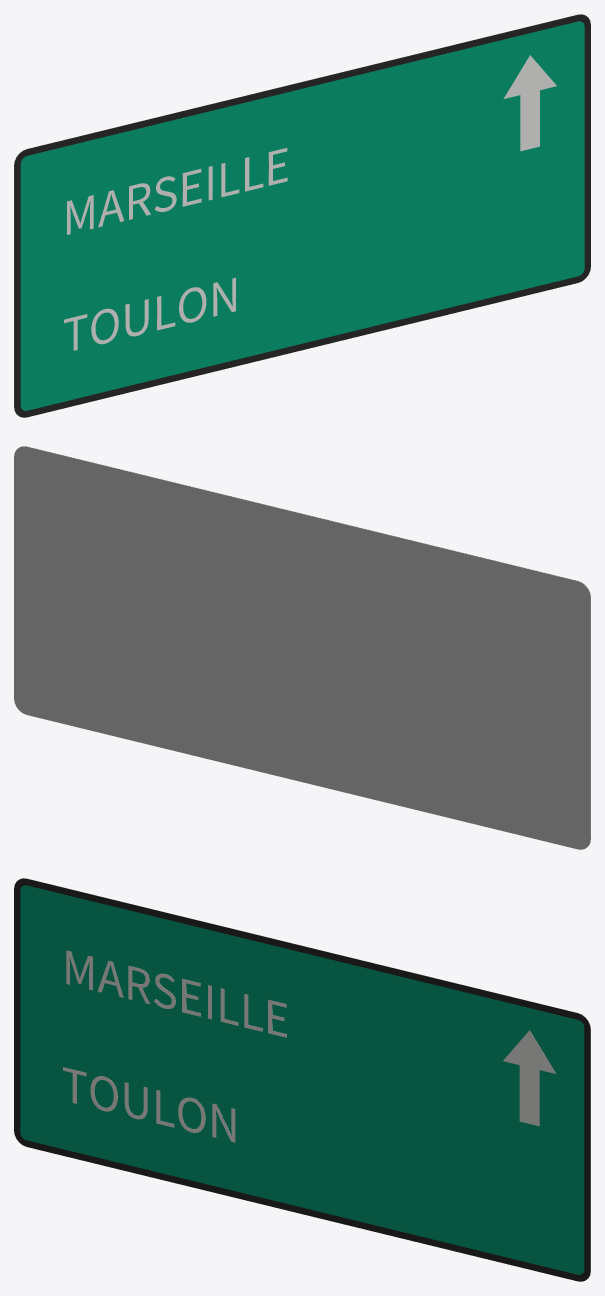
3 views of the same model, one above another, from view 1: azimuth 30°, elevation 25°; view 2: azimuth 150°, elevation 25°; view 3: azimuth 330°, elevation 25° (orthographic).
Parts seen in each view (by area): view 1: KD42e_fond01, KD42e_cadre00, KD42e_txt03, KD42e_fl02, KD42e_txt04, KD42e_dos; view 2: KD42e_dos; view 3: KD42e_fond01, KD42e_cadre00, KD42e_txt03, KD42e_fl02, KD42e_txt04, KD42e_dos.
Boxes of the visible parts, x1,y1,x2,y2 form: KD42e_fond01: [20, 21, 584, 410]; KD42e_cadre00: [14, 14, 590, 417]; KD42e_txt03: [67, 148, 287, 234]; KD42e_fl02: [503, 55, 556, 151]; KD42e_txt04: [64, 277, 235, 350]; KD42e_dos: [14, 14, 580, 409]; KD42e_dos: [14, 446, 590, 849]; KD42e_fond01: [20, 885, 584, 1274]; KD42e_cadre00: [14, 878, 590, 1281]; KD42e_txt03: [66, 950, 286, 1037]; KD42e_fl02: [503, 1030, 556, 1126]; KD42e_txt04: [63, 1067, 235, 1142]; KD42e_dos: [24, 878, 590, 1273].
Bounding box in the file's own units: 1.8 × 0.8 × 0.0033.
